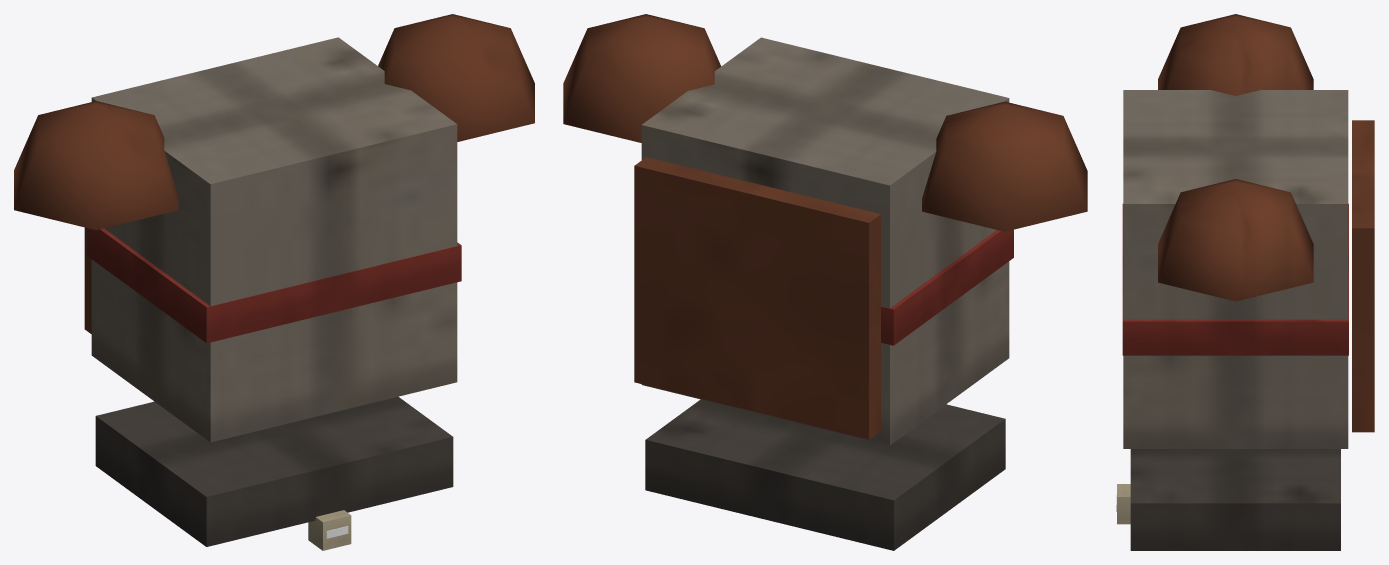
The picture shows the model from 3 angles, left to right: view 1: azimuth 30°, elevation 25°; view 2: azimuth 150°, elevation 25°; view 3: azimuth 270°, elevation 25°; orthographic projection. The views are drawn at different scales.
Parts seen in each view (by area): view 1: raider_armor_steel; view 2: raider_armor_steel; view 3: raider_armor_steel.
Part boxes in pixels (x1,y1,x2,y2): raider_armor_steel: [14, 14, 534, 550]; raider_armor_steel: [563, 14, 1087, 550]; raider_armor_steel: [1116, 14, 1374, 550].
Size of the model in its own units: 0.76 by 0.615 by 0.3442.
6 materials, 6 textured.
